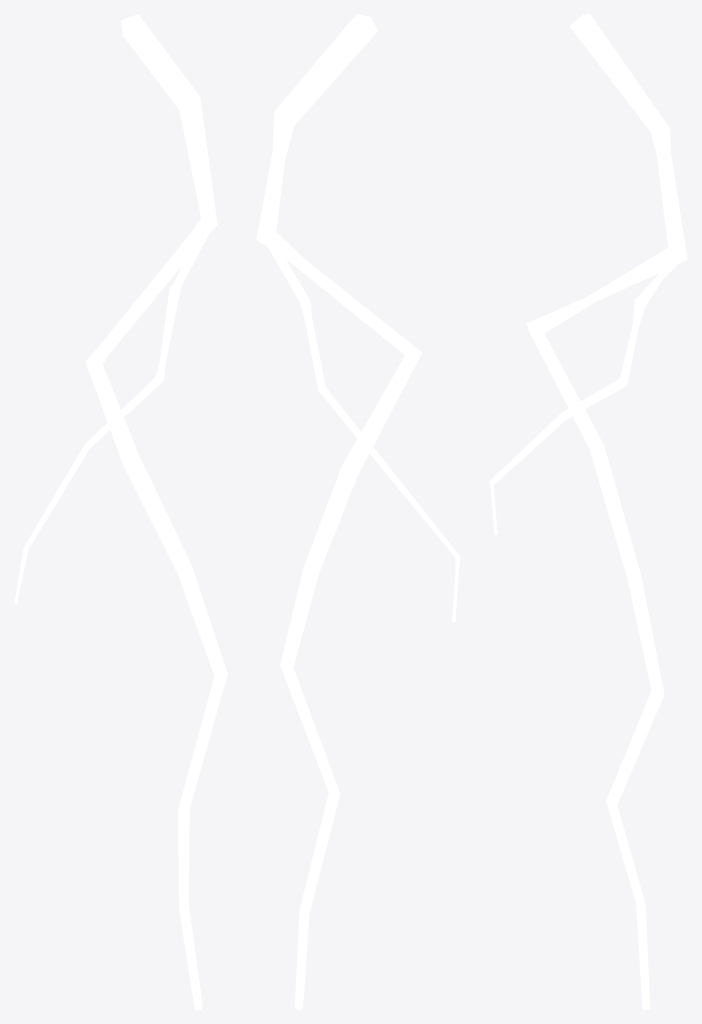
The model's file is lightning.fbx.
The picture shows the model from 3 angles, left to right: view 1: azimuth 30°, elevation 25°; view 2: azimuth 150°, elevation 25°; view 3: azimuth 330°, elevation 25°; orthographic projection. The views are drawn at different scales.
Visible parts, largest first — view 1: lightning; view 2: lightning; view 3: lightning.
Boxes of the visible parts, x1=… form: lightning: x1=14, y1=14, x2=227, y2=1009; lightning: x1=256, y1=14, x2=460, y2=1009; lightning: x1=489, y1=14, x2=687, y2=1009.
Size of the model in its own units: 5.88 by 28.22 by 1.62.
1 material, 1 textured.
